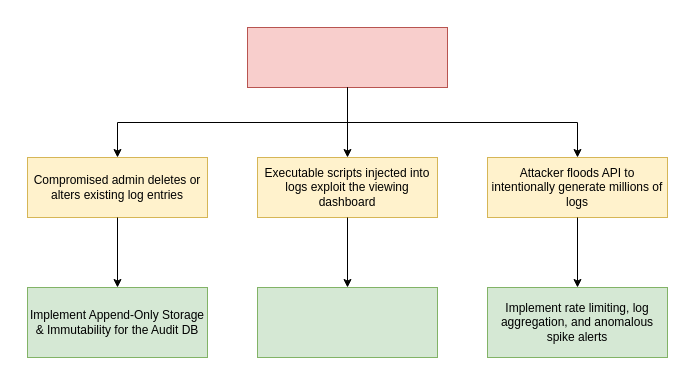
The diagram is 695 pixels wide and 385 high, and some of its shapes have lost their labels. The centre of each missing label's shape, as x and y in pixels:
Sanitize log inputs and encode outputs in the Audit Viewer: (347,322)
System Audit Log is Compromised: (347,57)
